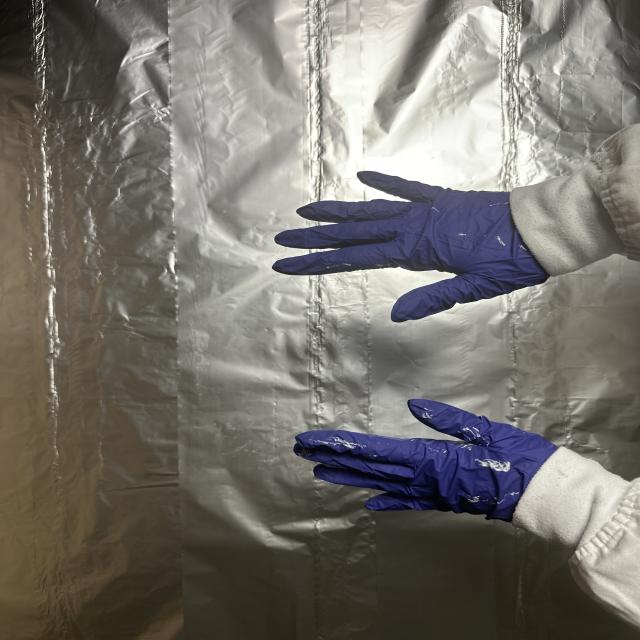gloves_contaminated: (273, 172, 549, 322), (294, 399, 557, 522)
